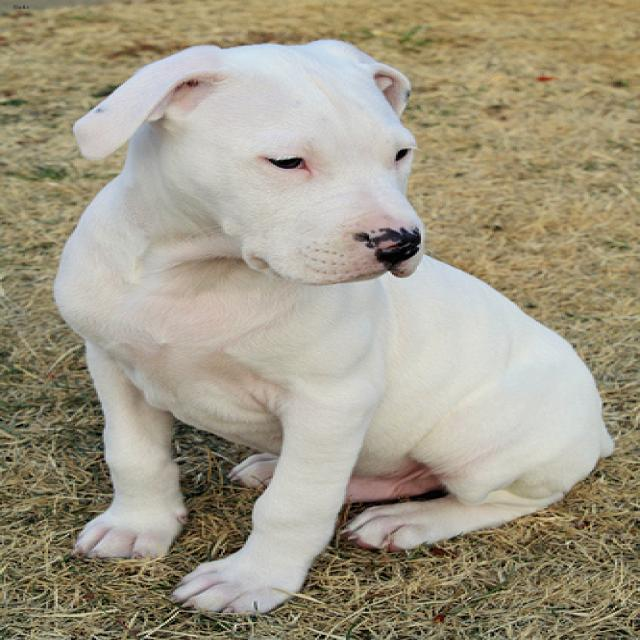dog-american_pit_bull_terrier: (37, 27, 627, 630)
